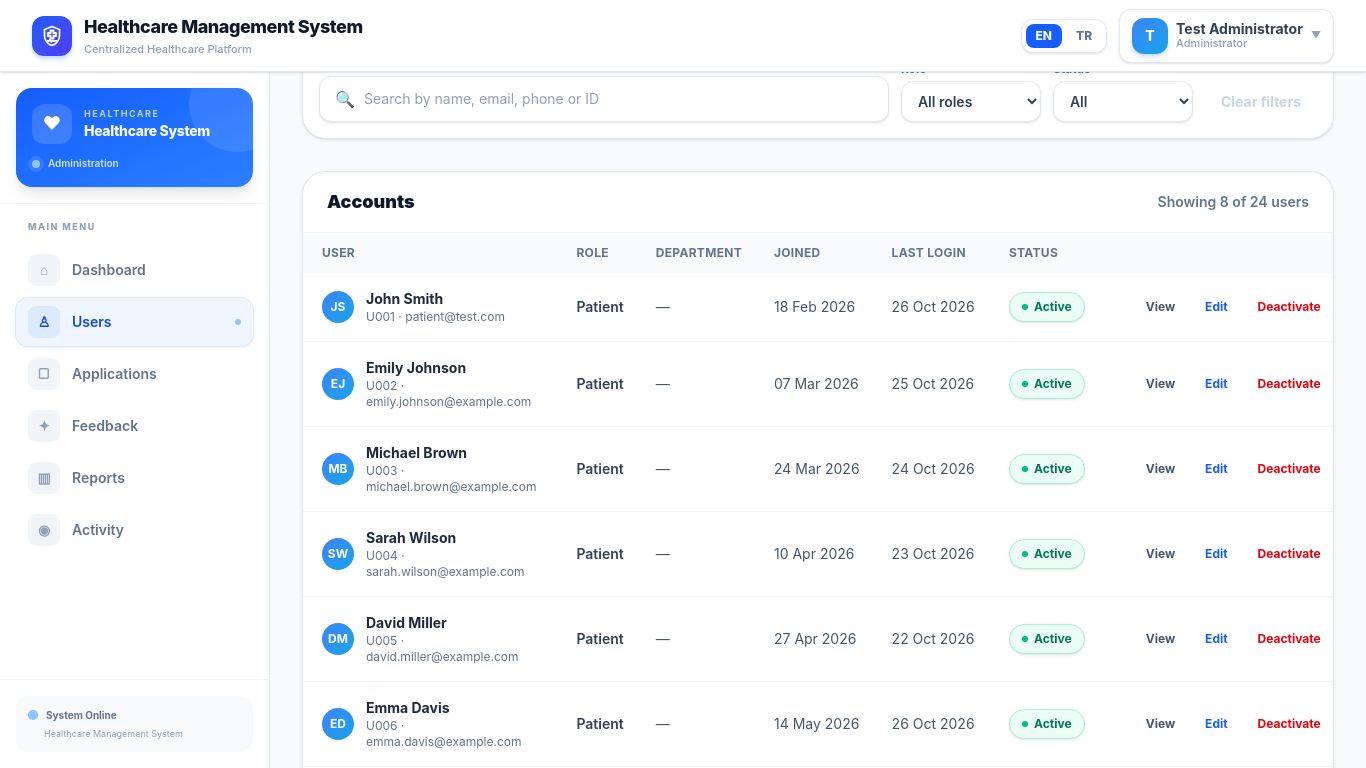
Test: W112 user management › deactivates an account (which can then no longer sign in) and protects the admin's own account
(page scrolled)
Click the button "Deactivate" in the row of "EJ": (1289,384) [1246,370,1333,398]
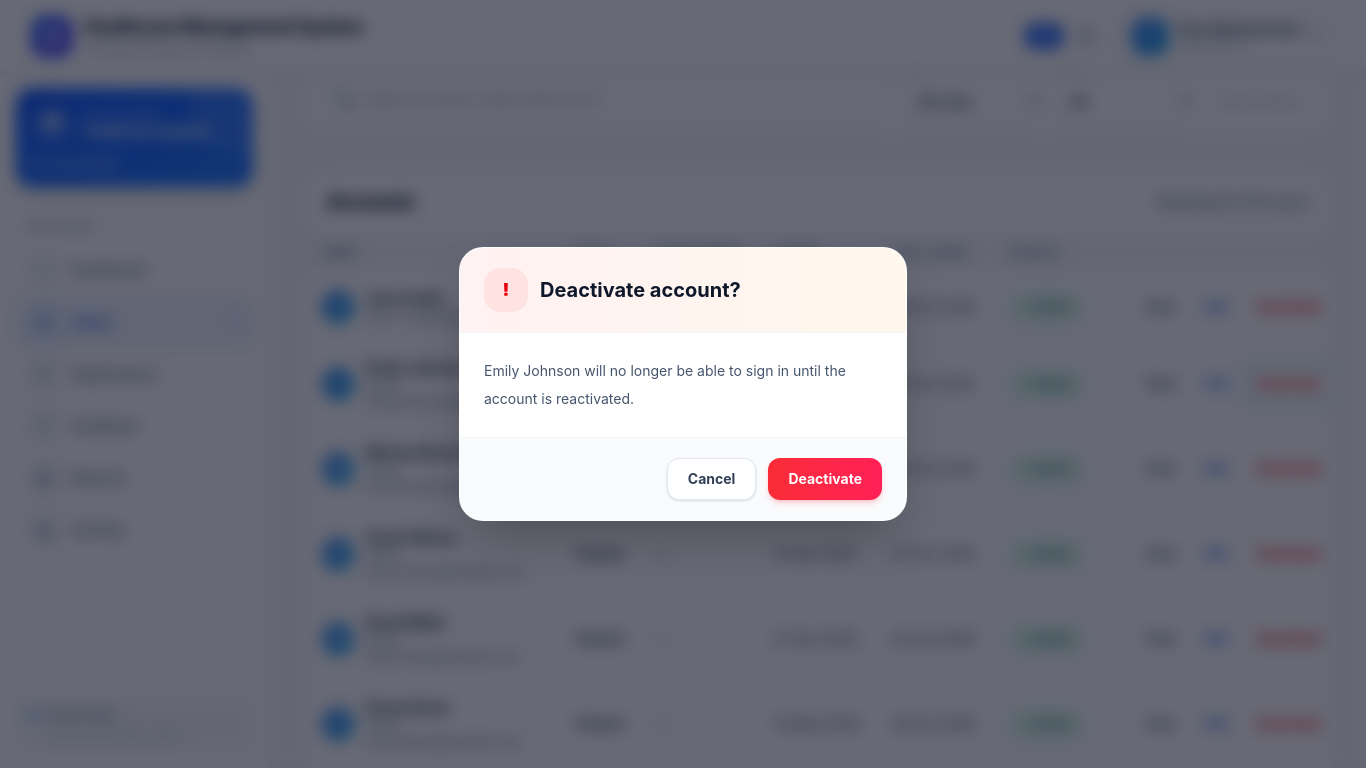
Click the button "Deactivate": (825,479) [768,458,882,500]
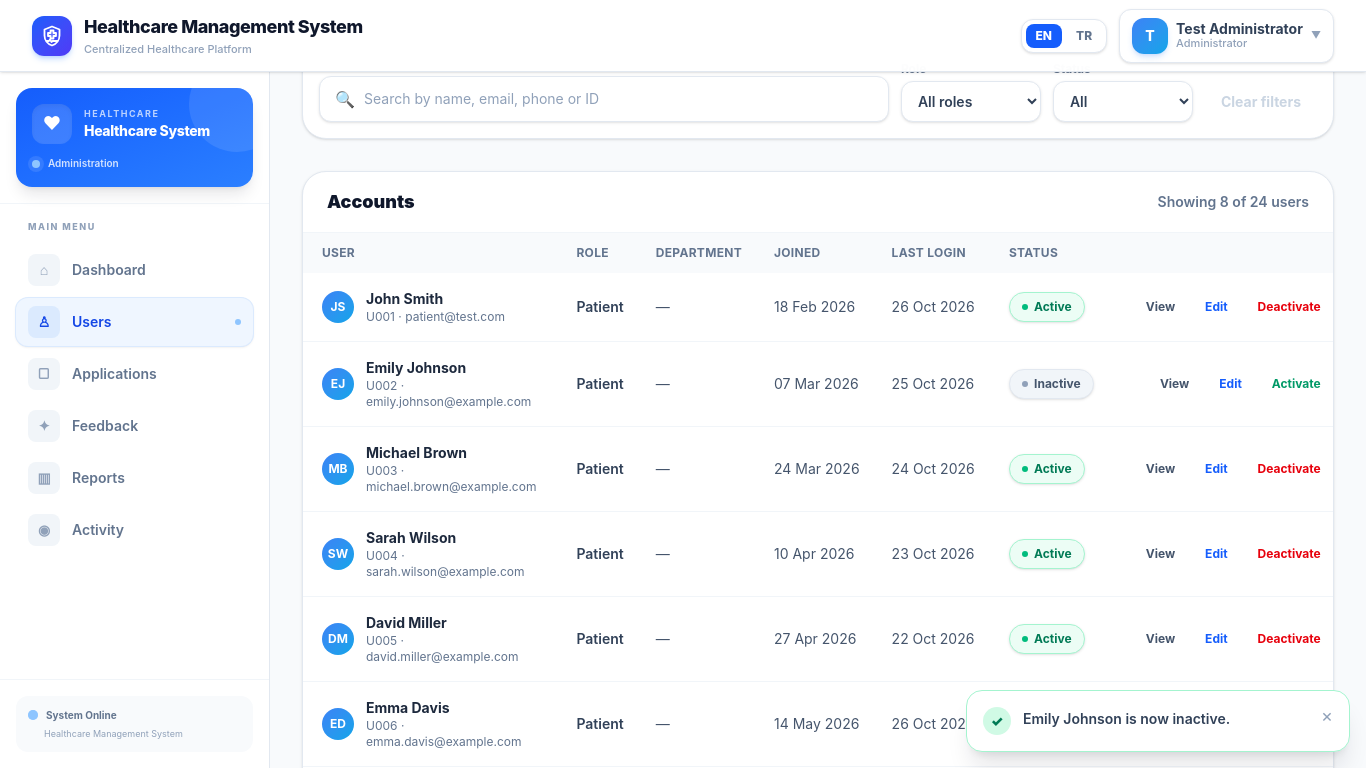
In the search field: (604,99) [319,76,889,122], type "admin@test.com"
(page scrolled)
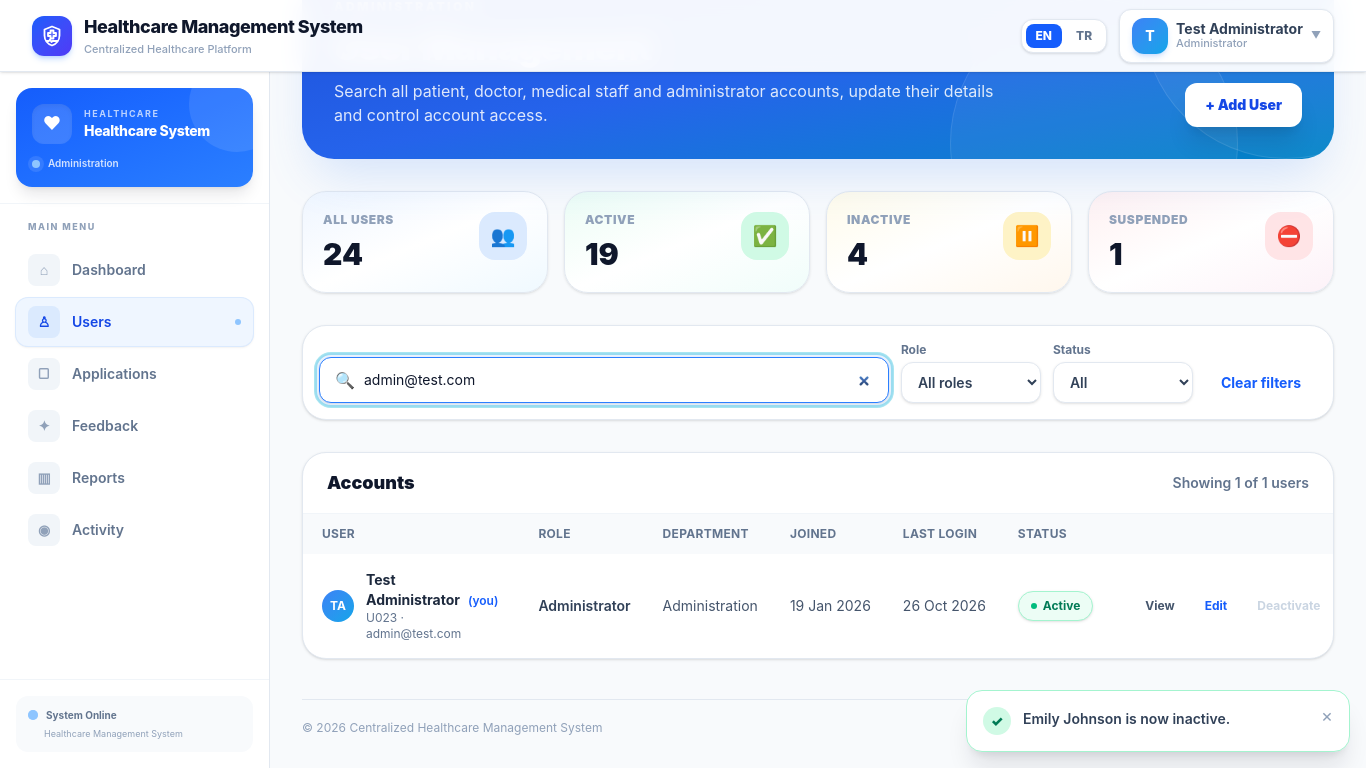
Expected: the button "Deactivate" is disabled, [1245,592,1332,620]
